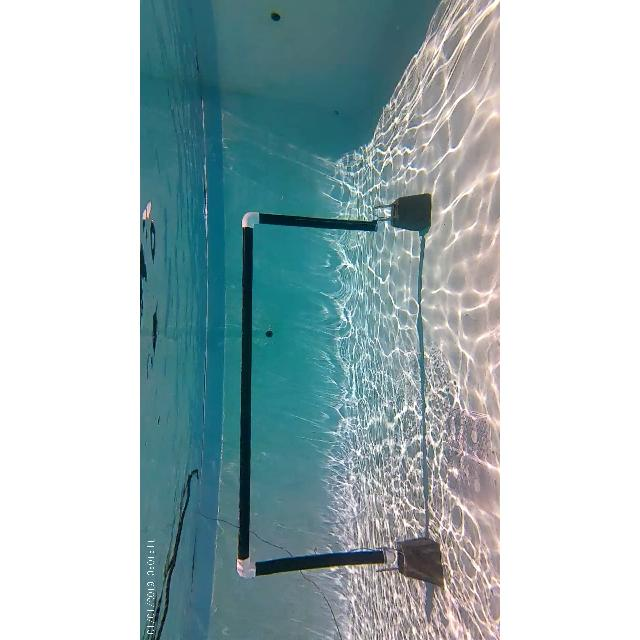prequal gate: (237, 212, 393, 580)
prequal gate leg l: (234, 546, 400, 578)
prequal gate leg r: (235, 208, 381, 234)
